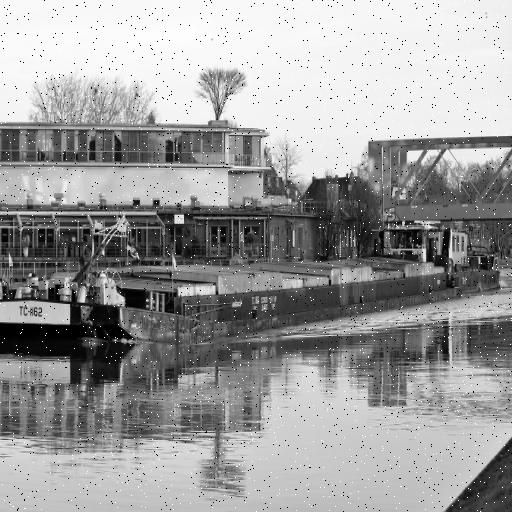tugboat: (361, 220, 506, 309)
